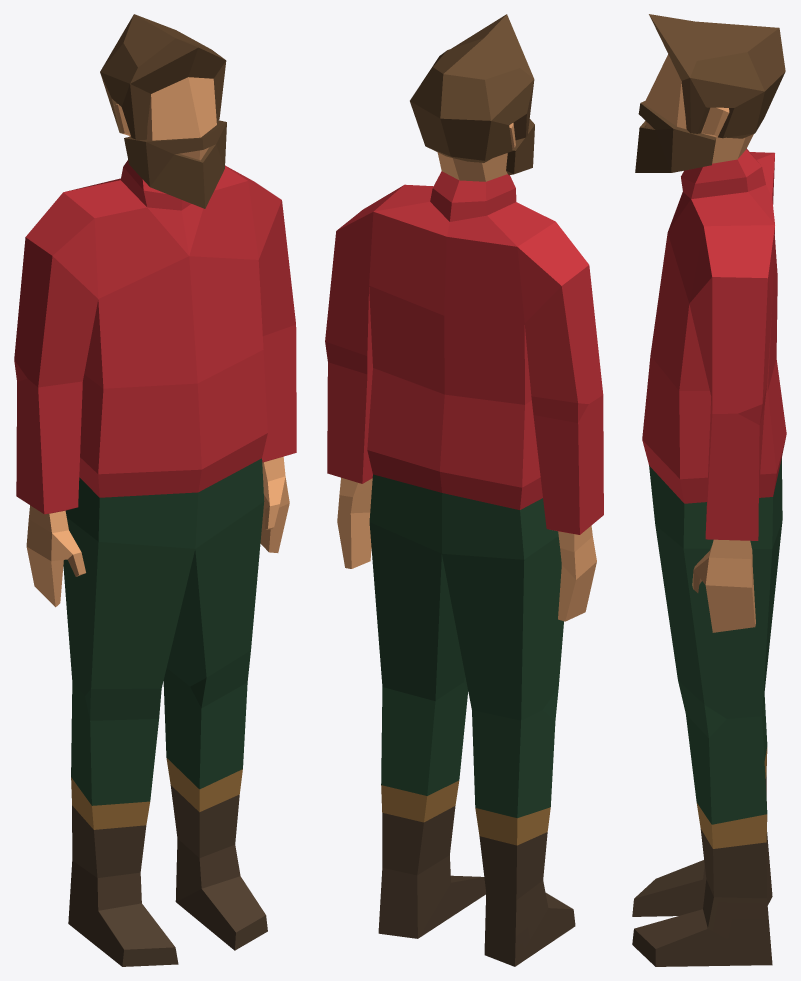
Rendered from people_man-sweater.fbx.
The picture shows the model from 3 angles, left to right: view 1: azimuth 30°, elevation 25°; view 2: azimuth 150°, elevation 25°; view 3: azimuth 270°, elevation 25°; orthographic projection. The views are drawn at different scales.
Visible parts, largest first — view 1: people_man_sweater; view 2: people_man_sweater; view 3: people_man_sweater.
Boxes of the visible parts, left/top/right/bottom form: people_man_sweater: left=14, top=14, right=296, bottom=966; people_man_sweater: left=325, top=14, right=603, bottom=966; people_man_sweater: left=632, top=14, right=786, bottom=966.
Bounding box in the file's own units: 59.7 × 200 × 30.53.
